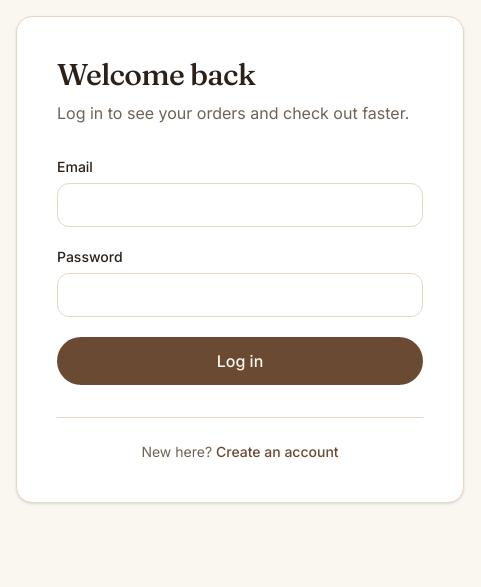
Test case: login page › shows the server’s message when the details are wrong
In the field labelled "Email": {"x": 240, "y": 205} [57,183,423,227], type "asha@example.com"
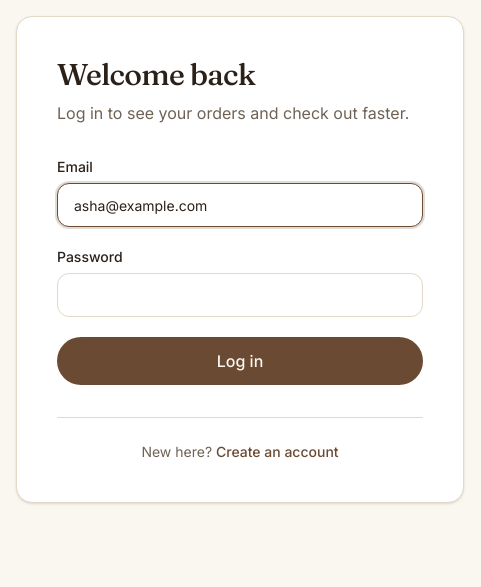
In the password field labelled "Password": {"x": 240, "y": 295} [57,273,423,317], type "wrong-password"
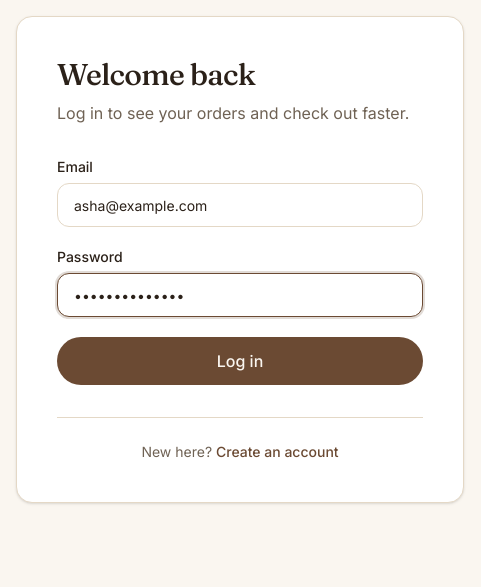
Click the button "Log in": {"x": 240, "y": 361} [57,337,423,385]
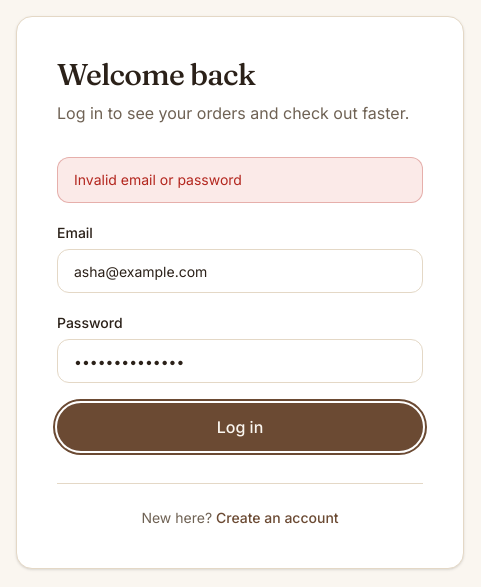
Result: the message reads "Invalid email or password" at [74,171,242,188]
